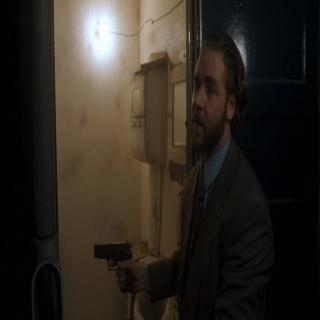gun: (89, 227, 142, 295)
